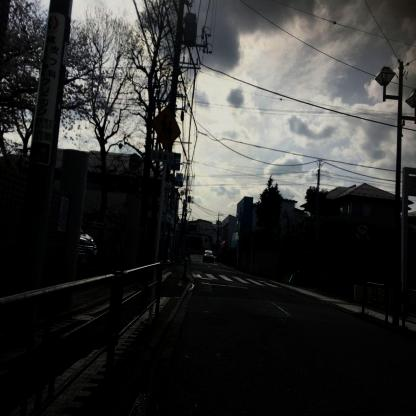Someiyoshino: (0, 0, 110, 167)
